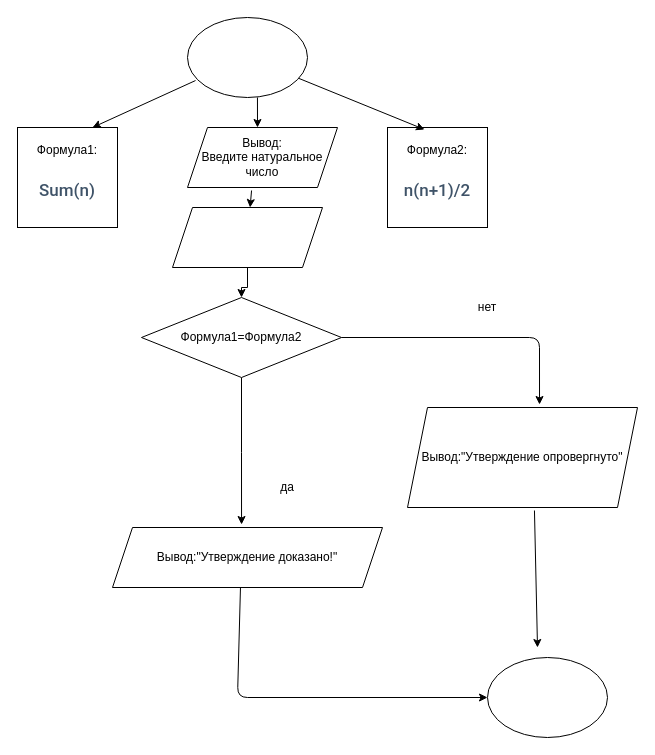
Some shapes in this 655 by 755 pixel diagram are drawn without their labels. Each missing label, with the centre of its shape:
"Ввод натурального числа n" goes at (x=247, y=237).
"Конец" goes at (x=547, y=697).
"Начало" goes at (x=247, y=57).
